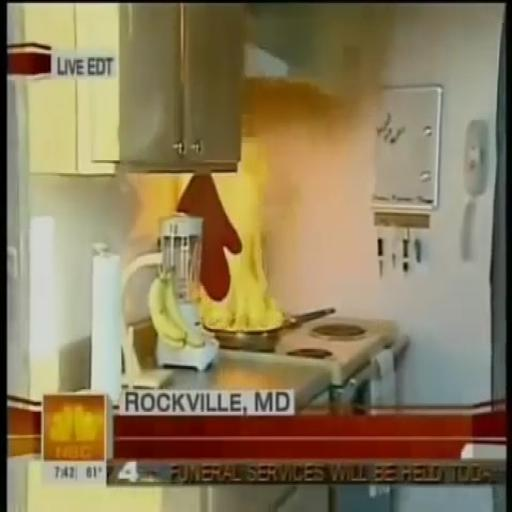fire: (178, 173, 296, 333), (244, 117, 316, 172)
